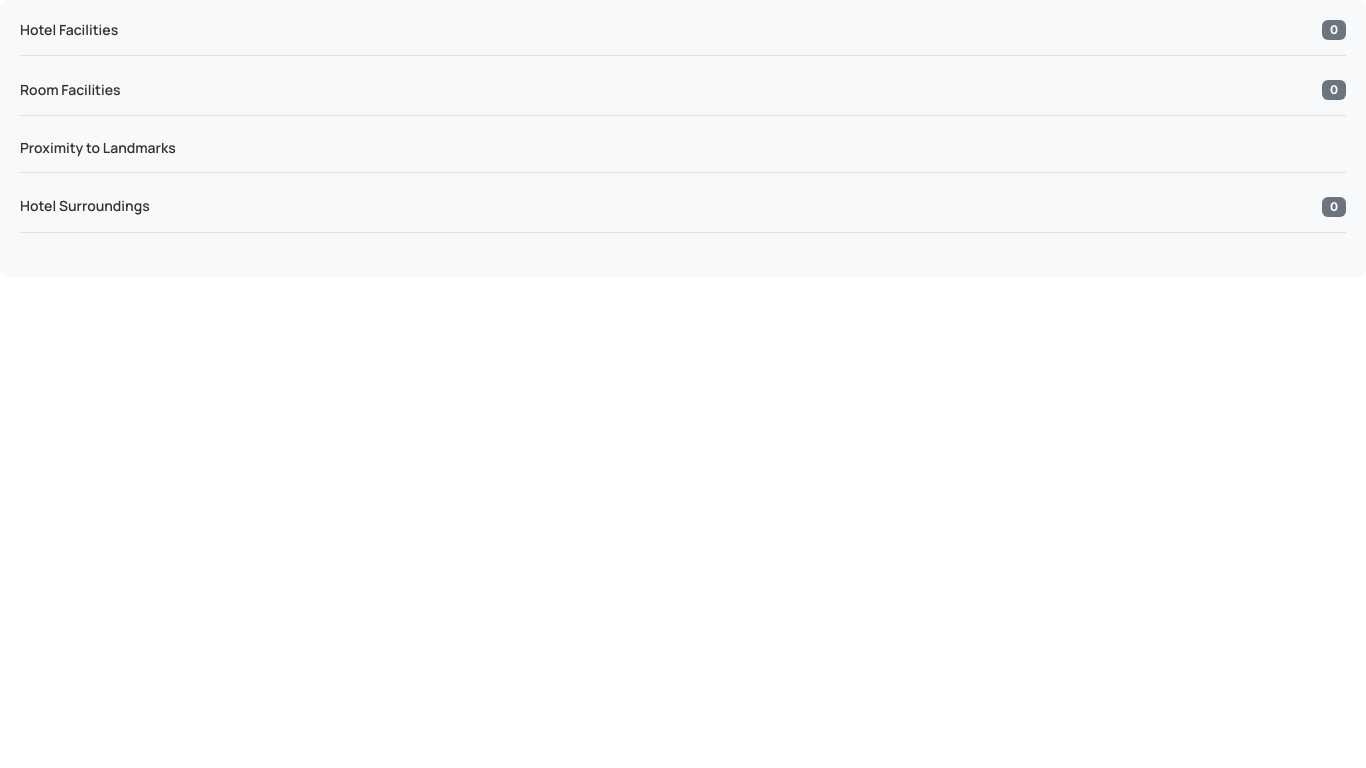
Test: AdvancedFilters › Hotel Surroundings Section › should expand surroundings section when clicked
The image size is (1366, 768).
Click the heading "Hotel Surroundings": (85, 207) [20,198,150,215]
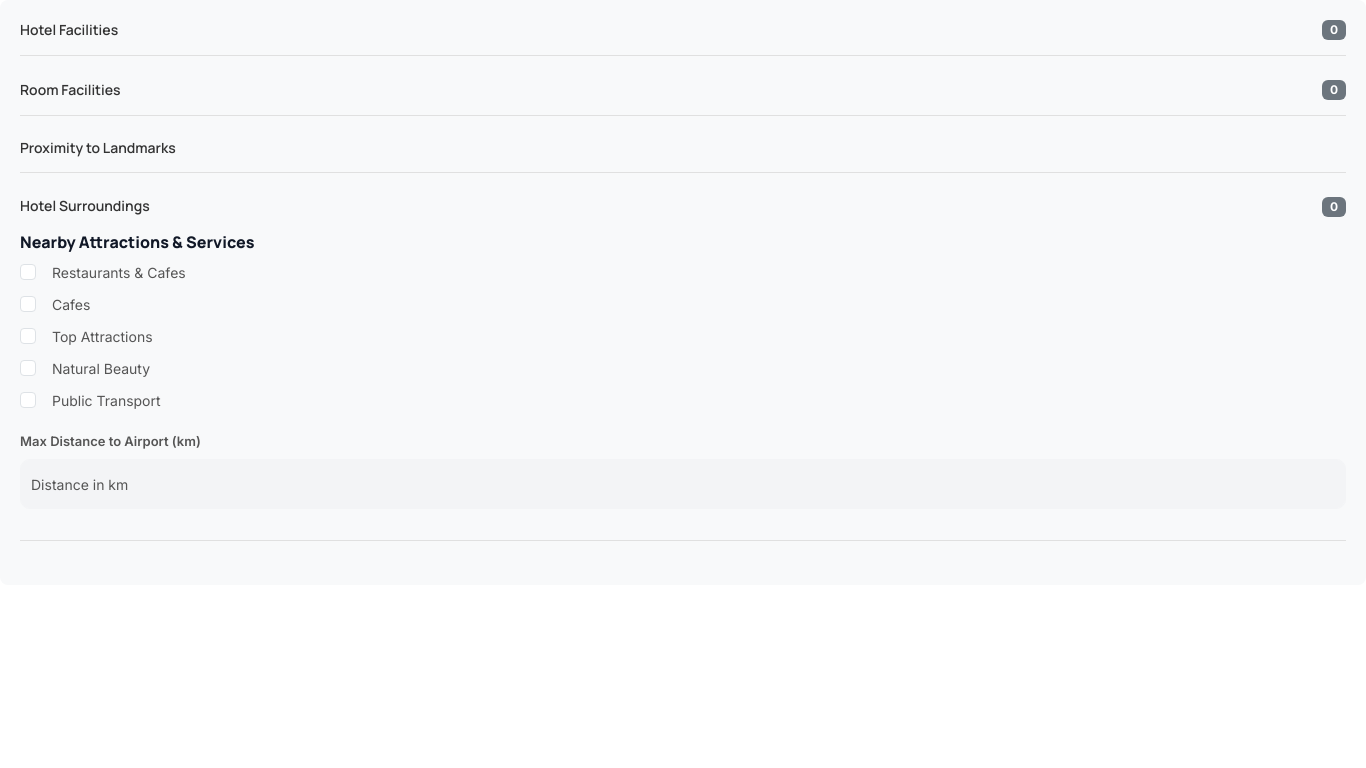
Expected: the heading "Nearby Attractions & Services" is shown, [20,231,254,253]
Expected: the checkbox labelled "Restaurants & Cafes" is shown, [20,264,36,280]
Expected: the checkbox labelled "Public Transport" is shown, [20,392,36,408]
